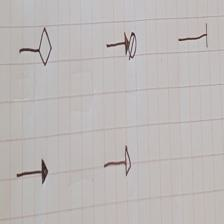control: (20, 27, 52, 66)
degradation: (106, 32, 137, 59)
inhibition: (179, 24, 208, 46)
stimulation: (104, 146, 131, 176)
